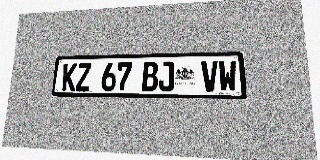6: (101, 63, 117, 91)
7: (116, 62, 132, 91)
B: (142, 62, 158, 91)
J: (158, 62, 174, 92)
K: (61, 63, 77, 91)
V: (201, 61, 219, 92)
W: (218, 60, 237, 92)
Z: (75, 63, 91, 91)
